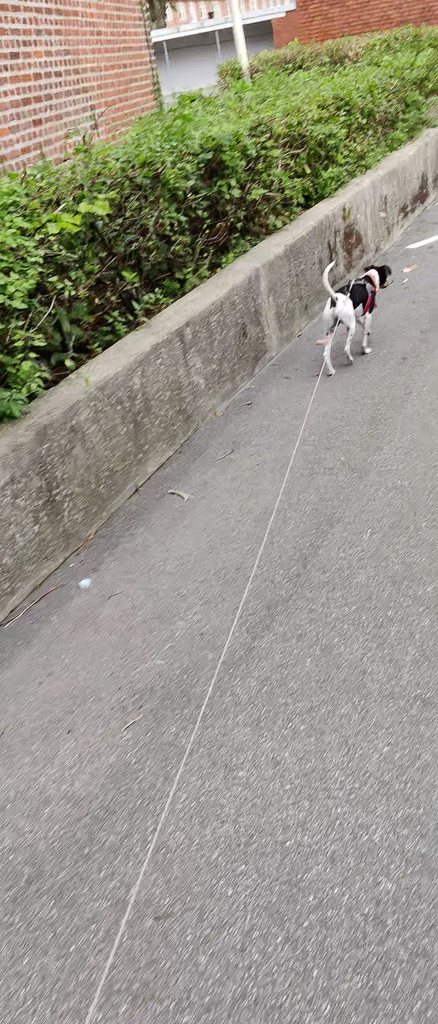Dog: (310, 255, 398, 383)
